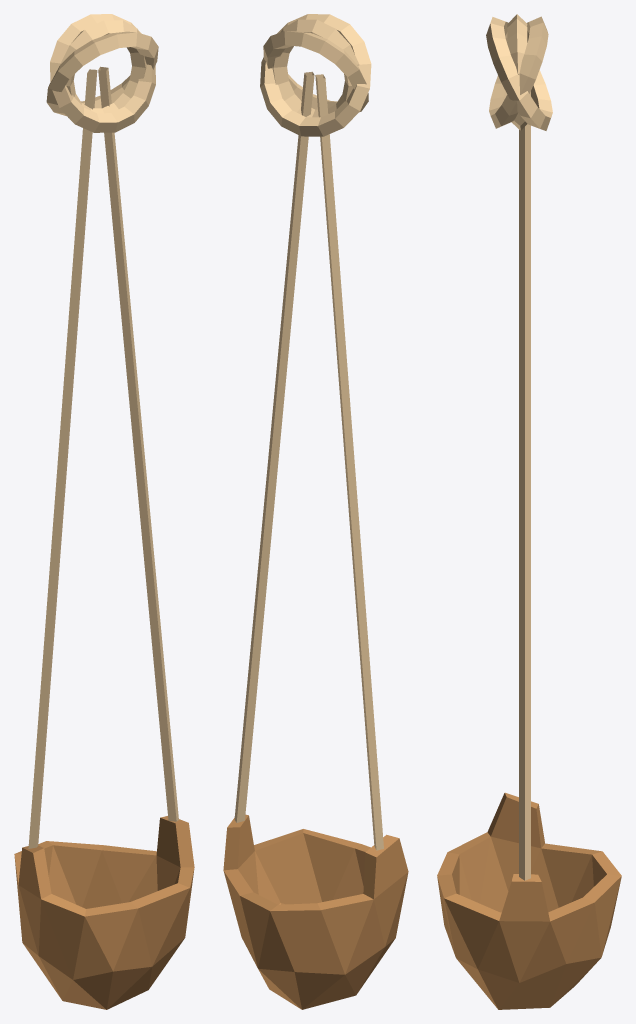
File: trebuclet.cargo.fbx
The picture shows the model from 3 angles, left to right: view 1: azimuth 30°, elevation 25°; view 2: azimuth 150°, elevation 25°; view 3: azimuth 270°, elevation 25°; orthographic projection.
Parts seen in each view (by area): view 1: trebuclet.cargo; view 2: trebuclet.cargo; view 3: trebuclet.cargo.
Part boxes in pixels (left/top/right/bottom): trebuclet.cargo: left=14, top=14, right=194, bottom=1009; trebuclet.cargo: left=223, top=14, right=408, bottom=1009; trebuclet.cargo: left=437, top=14, right=621, bottom=1009.
Size of the model in its own units: 0.5607 by 3.3 by 0.5603.
